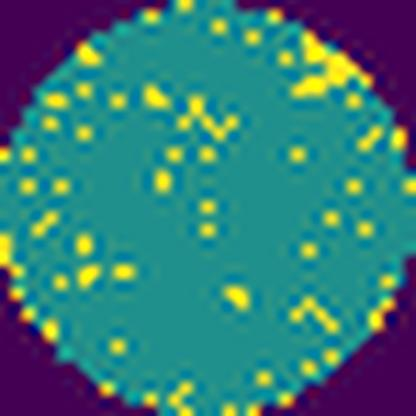Edge-Loc: (290, 22, 375, 106)
